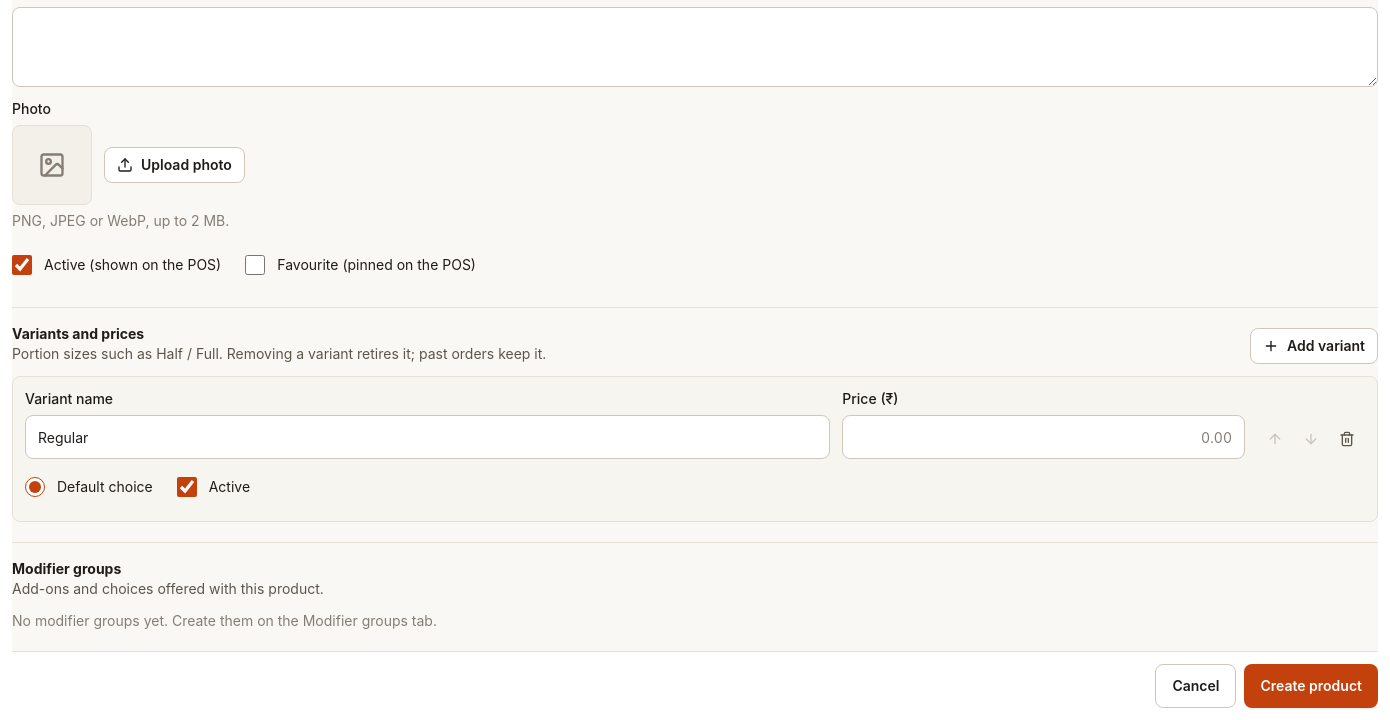
ProductForm › asks for a name, SKU, category and a price before saving
(page scrolled)
Step 1. Click the button "Create product" → (1311,686), box [1244,664,1378,708]
(page scrolled)
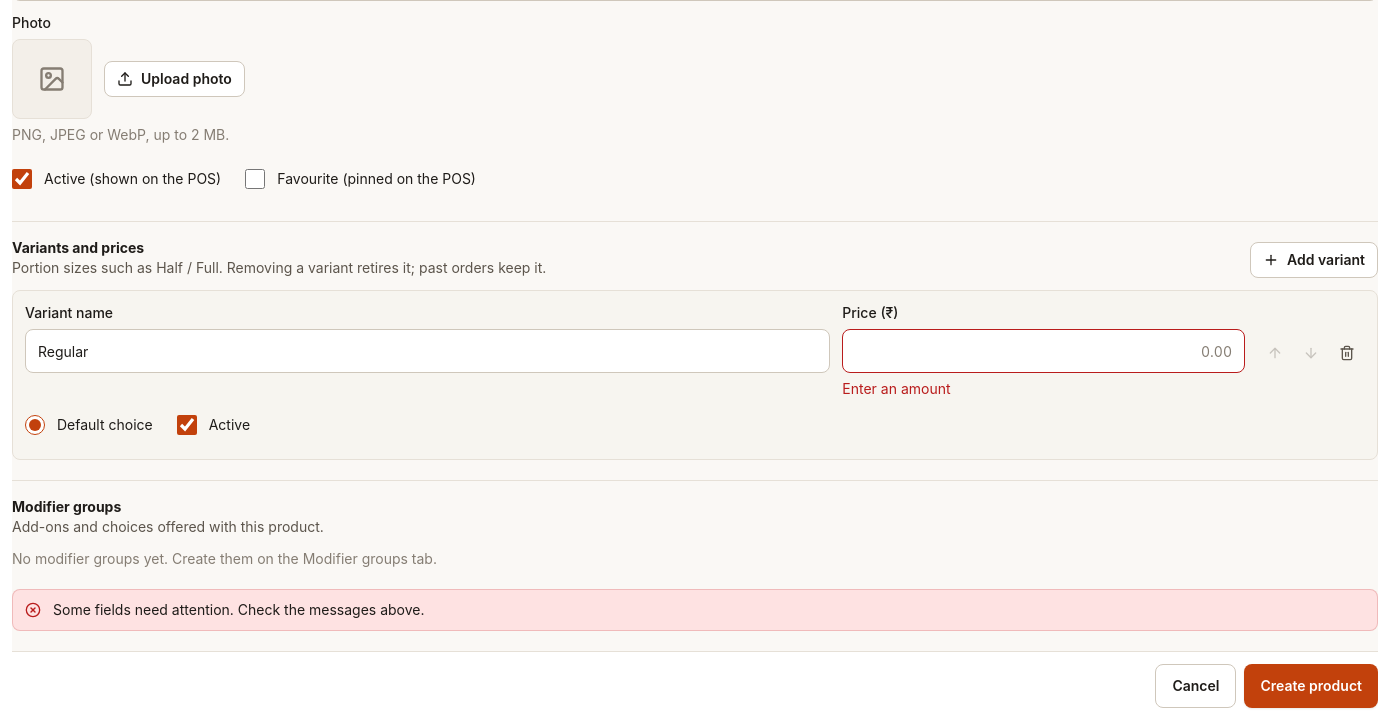
Result: the text "Some fields need attention. Check the messages above." is shown at [53,600,424,620]
